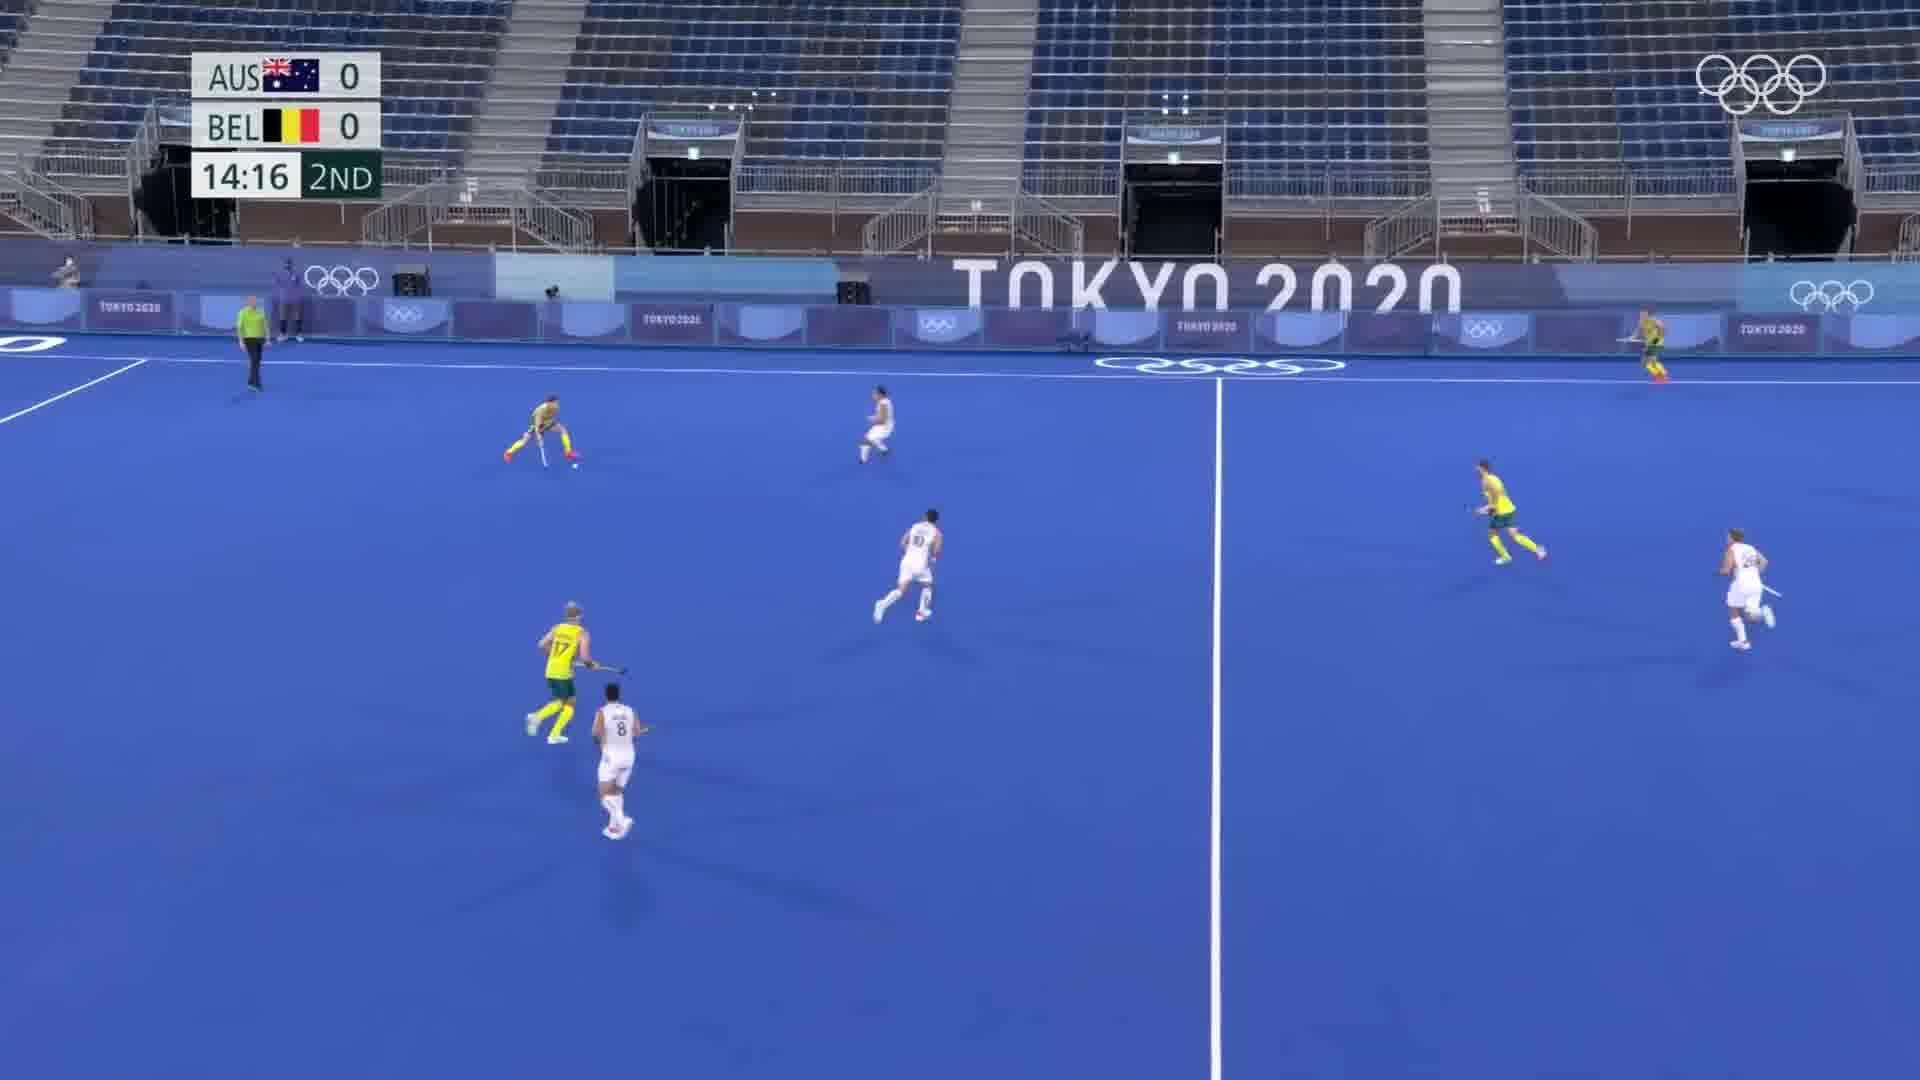ball: (564, 457, 586, 478)
